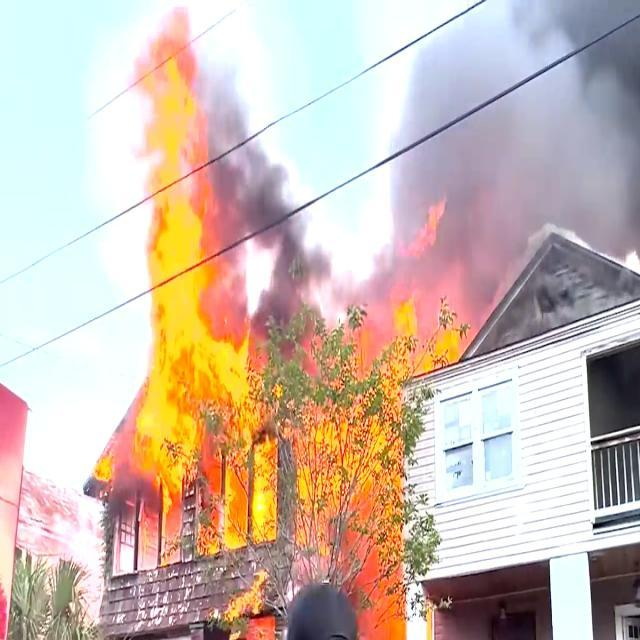Fire: (138, 51, 218, 508), (313, 309, 398, 568), (224, 346, 270, 546)
Smoke: (415, 4, 640, 215), (228, 83, 308, 311)
